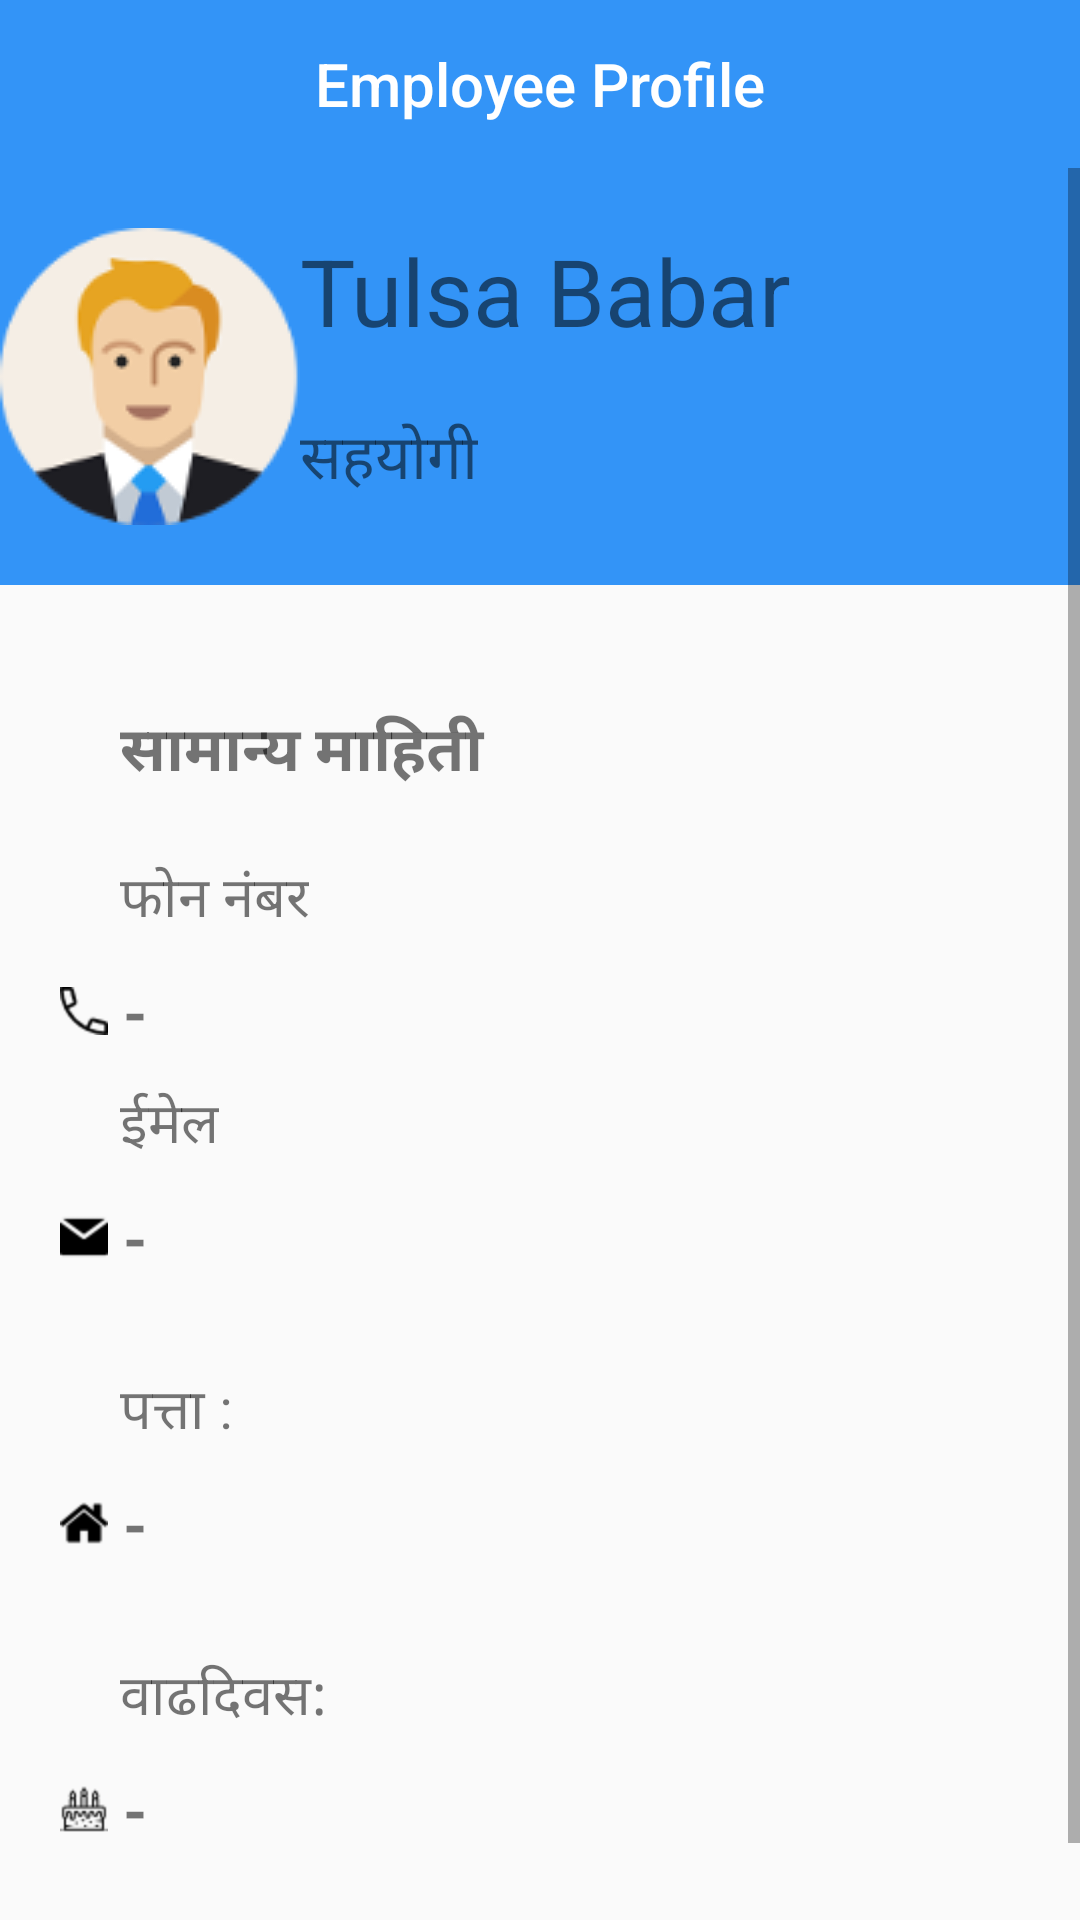

Where icons sit on this 1080px×1920px app screen, as detection(x1, y1, x2, y2):
usericon: detection(0, 228, 298, 525)
